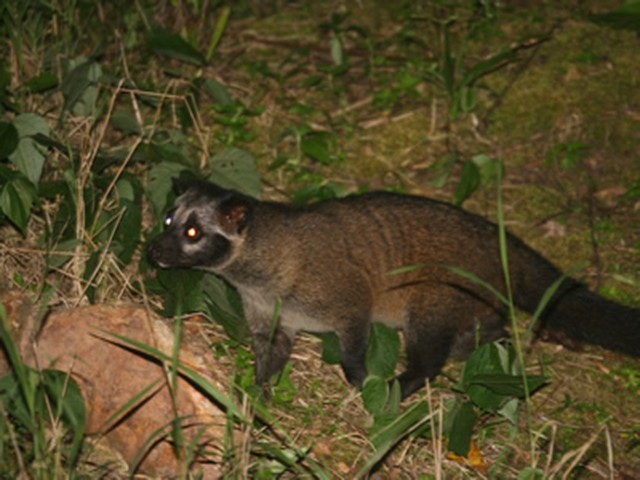civet: (143, 166, 638, 393)
